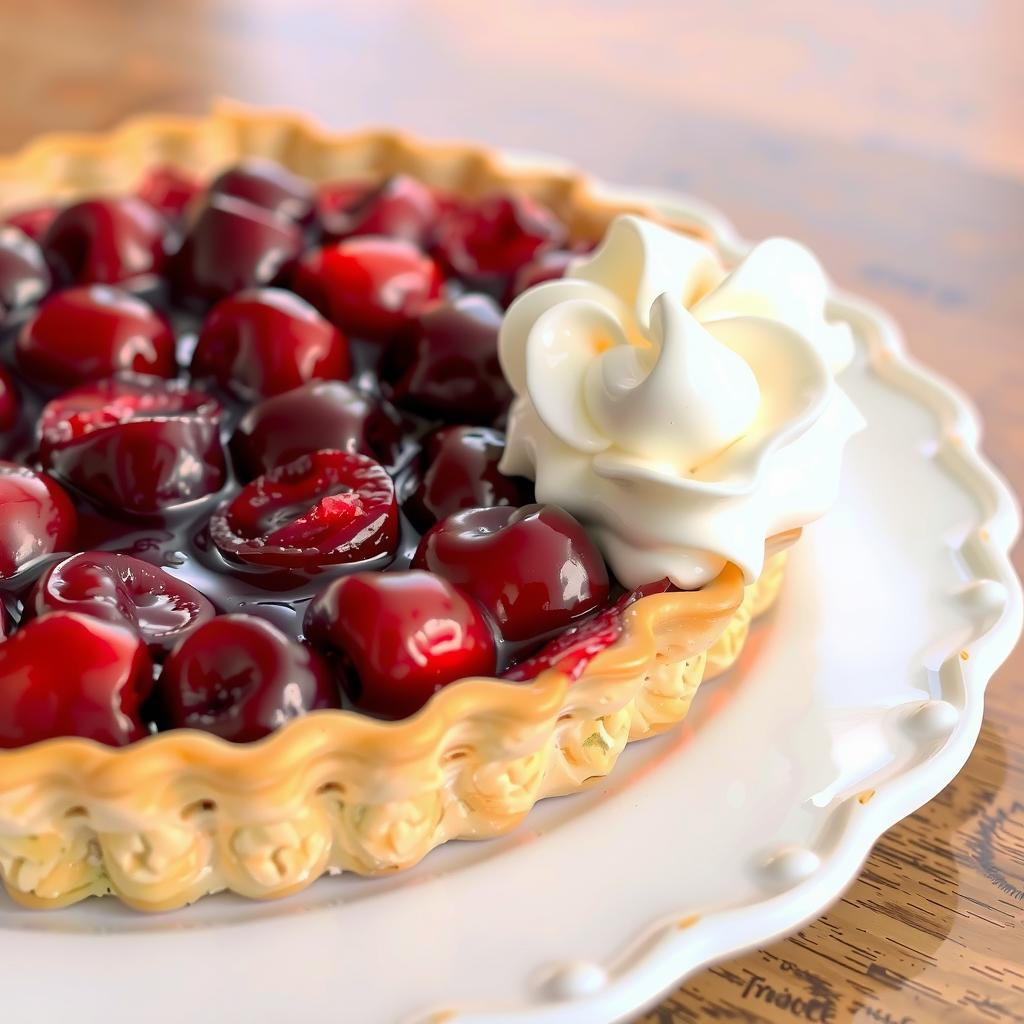pie: (0, 107, 851, 936)
